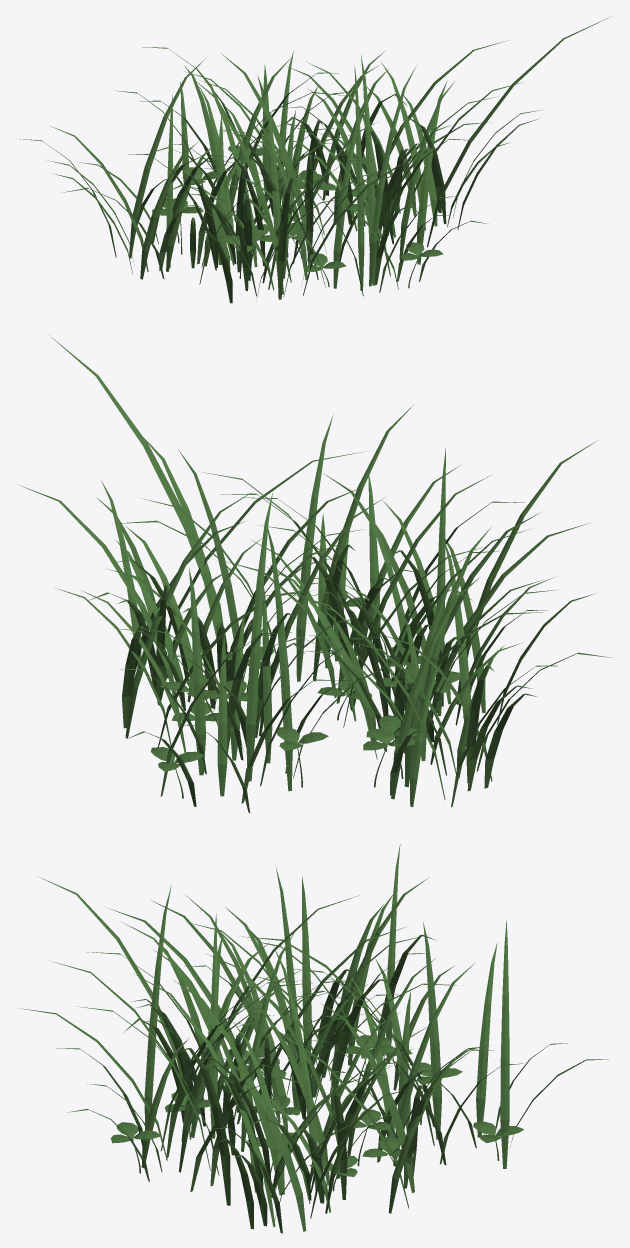
File: l-meadow.glb
3 views of the same model, one above another, from view 1: azimuth 30°, elevation 25°; view 2: azimuth 150°, elevation 25°; view 3: azimuth 270°, elevation 25° (orthographic). The views are drawn at different scales.
Parts seen in each view (by area): view 1: PatchFoliage; view 2: PatchFoliage; view 3: PatchFoliage.
Boxes of the visible parts, x1,y1,x2,y2 form: PatchFoliage: (19, 17, 608, 303); PatchFoliage: (19, 335, 612, 813); PatchFoliage: (20, 844, 608, 1233).
Size of the model in its own units: 1.83 by 0.72 by 1.58.
